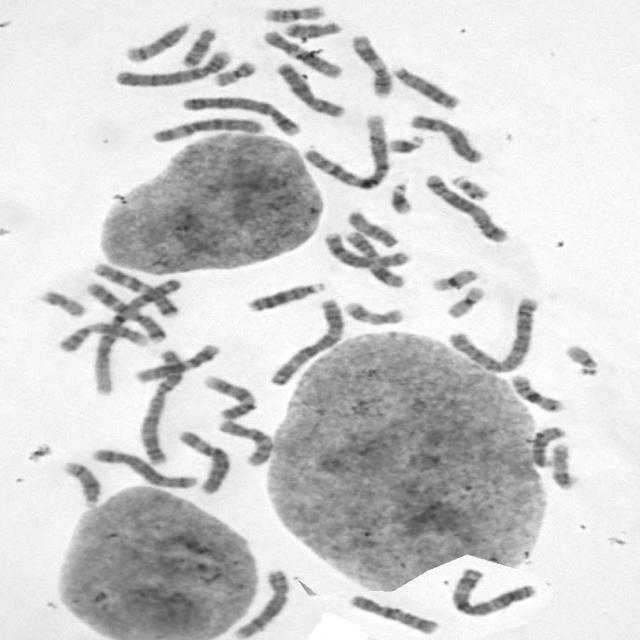A1: (92, 278, 186, 396), (299, 112, 392, 192)
A2: (444, 294, 540, 374), (134, 345, 186, 466)
A3: (266, 295, 346, 387), (448, 565, 538, 618)
B4: (177, 93, 304, 138), (110, 48, 233, 88)
B5: (421, 172, 511, 244), (89, 446, 198, 489)
C10: (346, 592, 441, 635), (216, 417, 275, 468)
C11: (341, 228, 405, 289), (348, 33, 394, 98)
C12: (260, 28, 344, 79), (131, 341, 222, 383)
C6: (174, 428, 232, 496), (148, 114, 265, 144)
C7: (83, 280, 167, 343), (91, 260, 180, 319)
C8: (232, 568, 291, 639), (321, 230, 412, 270)
C9: (56, 319, 152, 354), (200, 372, 258, 422)
D13: (389, 64, 461, 110), (242, 279, 328, 313)
D14: (121, 18, 192, 63), (61, 459, 102, 508)
D15: (344, 209, 399, 249), (527, 424, 567, 468)
E16: (506, 372, 566, 414), (260, 4, 326, 24)
E17: (341, 299, 406, 326), (548, 441, 578, 492)
E18: (178, 25, 218, 68), (280, 19, 341, 39)
F19: (441, 284, 487, 320), (428, 266, 480, 292)
F20: (38, 287, 90, 319), (210, 58, 258, 88)
G21: (384, 132, 426, 155), (387, 180, 413, 216)
G22: (562, 342, 600, 378), (448, 173, 492, 203)
X: (273, 60, 346, 120), (406, 112, 485, 165)
